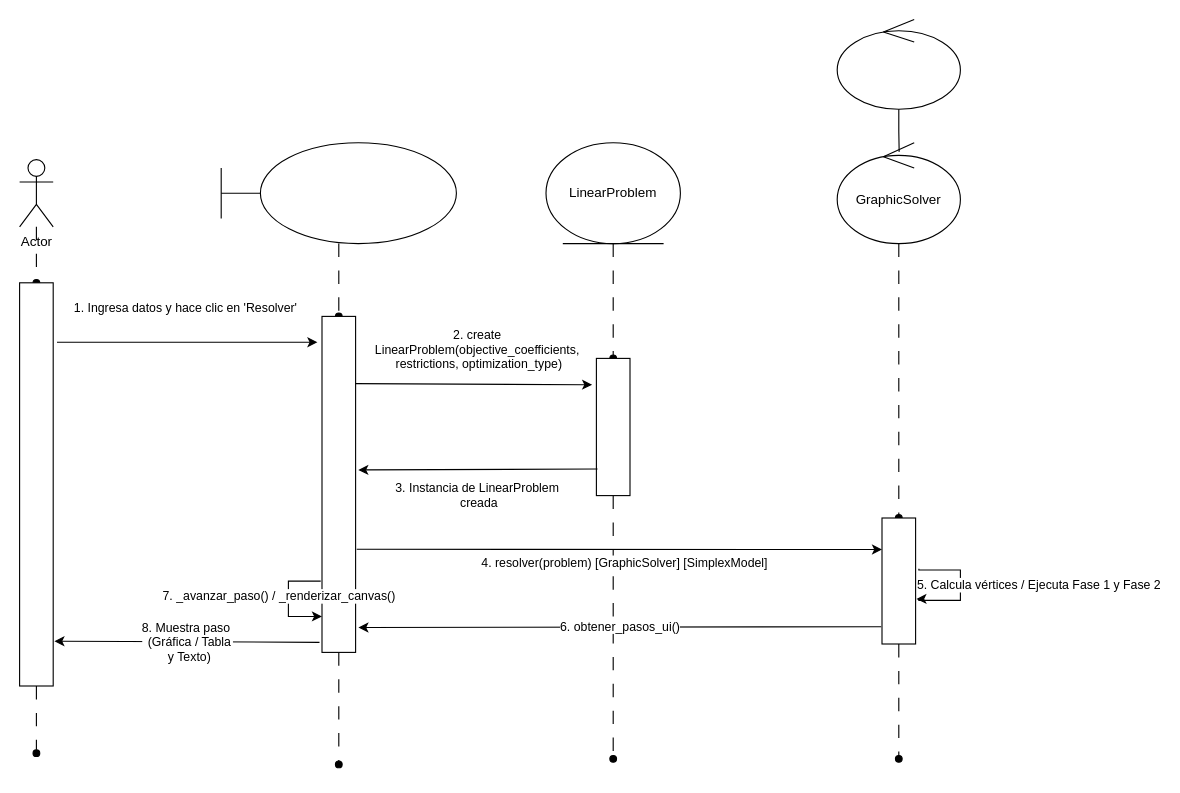
Image size: 1180x793. Some labels were removed from this diagram. Each missing label, with the centre of its shape:
AplicacionProgramacionLineal: point (338, 193)
SimplexModel: point (898, 63)
